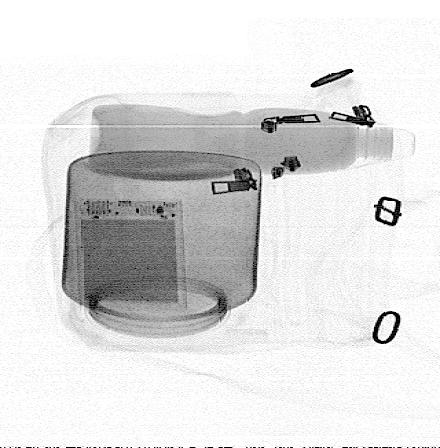Powerbank: (76, 199, 186, 311)
